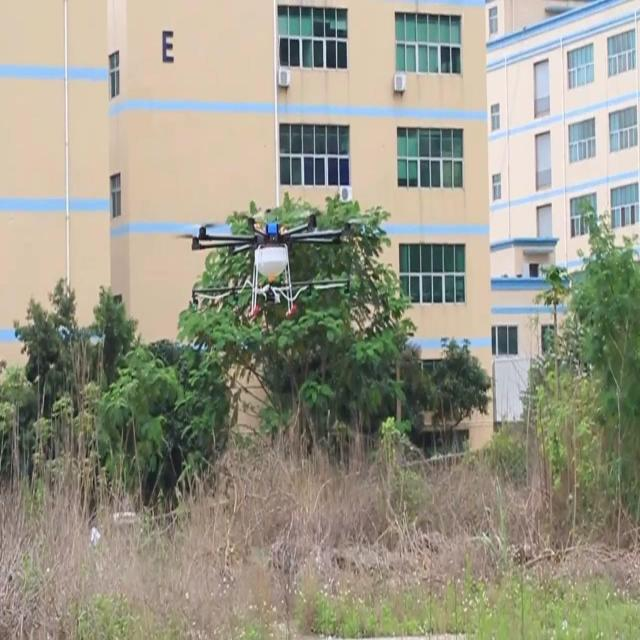UAV: (179, 214, 349, 321)
